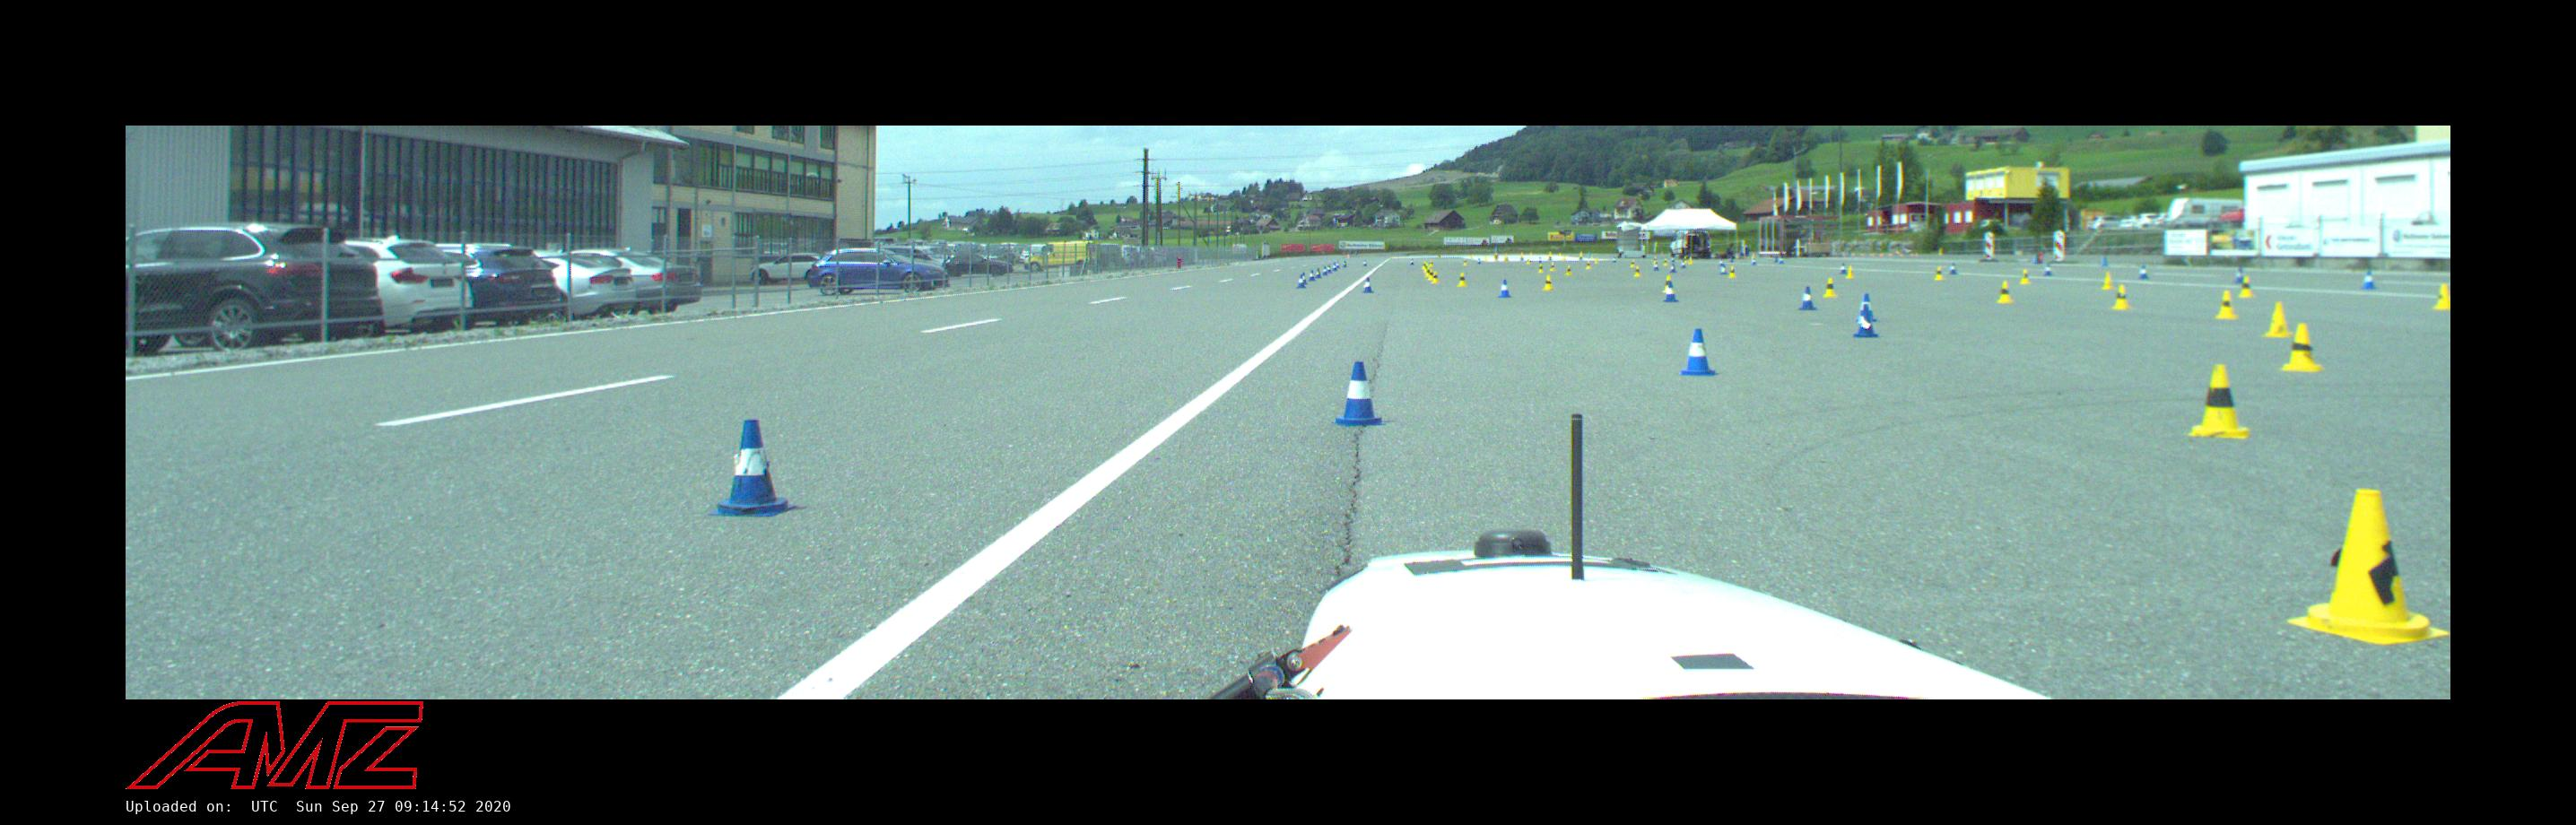blue_cone: (708, 419, 795, 516), (1331, 362, 1387, 426), (1681, 329, 1715, 376), (1853, 306, 1879, 337), (1856, 293, 1876, 320), (1799, 288, 1817, 311), (1663, 283, 1677, 301), (2362, 271, 2376, 289), (1498, 279, 1511, 297), (1362, 278, 1373, 293), (2234, 268, 2242, 284), (2139, 266, 2149, 279), (1296, 276, 1306, 288), (1948, 263, 1958, 274), (2044, 266, 2052, 276), (1669, 263, 1677, 273), (1720, 265, 1728, 274), (1314, 268, 1321, 278), (1840, 263, 1847, 273), (1303, 273, 1308, 284), (1309, 270, 1314, 281)
yellow_cone: (2287, 488, 2448, 644), (2188, 365, 2249, 437), (2279, 324, 2325, 371), (2262, 302, 2292, 337), (2216, 291, 2238, 319), (2433, 286, 2451, 309), (1996, 281, 2014, 302), (2113, 286, 2129, 309), (2238, 278, 2254, 297), (1824, 278, 1837, 297), (2101, 273, 2113, 289), (2019, 270, 2031, 284), (1934, 266, 1945, 279), (1457, 273, 1467, 288), (1663, 276, 1671, 293), (1544, 276, 1554, 289), (1564, 266, 1574, 276), (1847, 266, 1855, 278), (1633, 266, 1641, 276), (1431, 273, 1439, 283), (1728, 266, 1735, 278), (1538, 265, 1544, 273), (1549, 263, 1556, 271), (1428, 270, 1433, 279)
